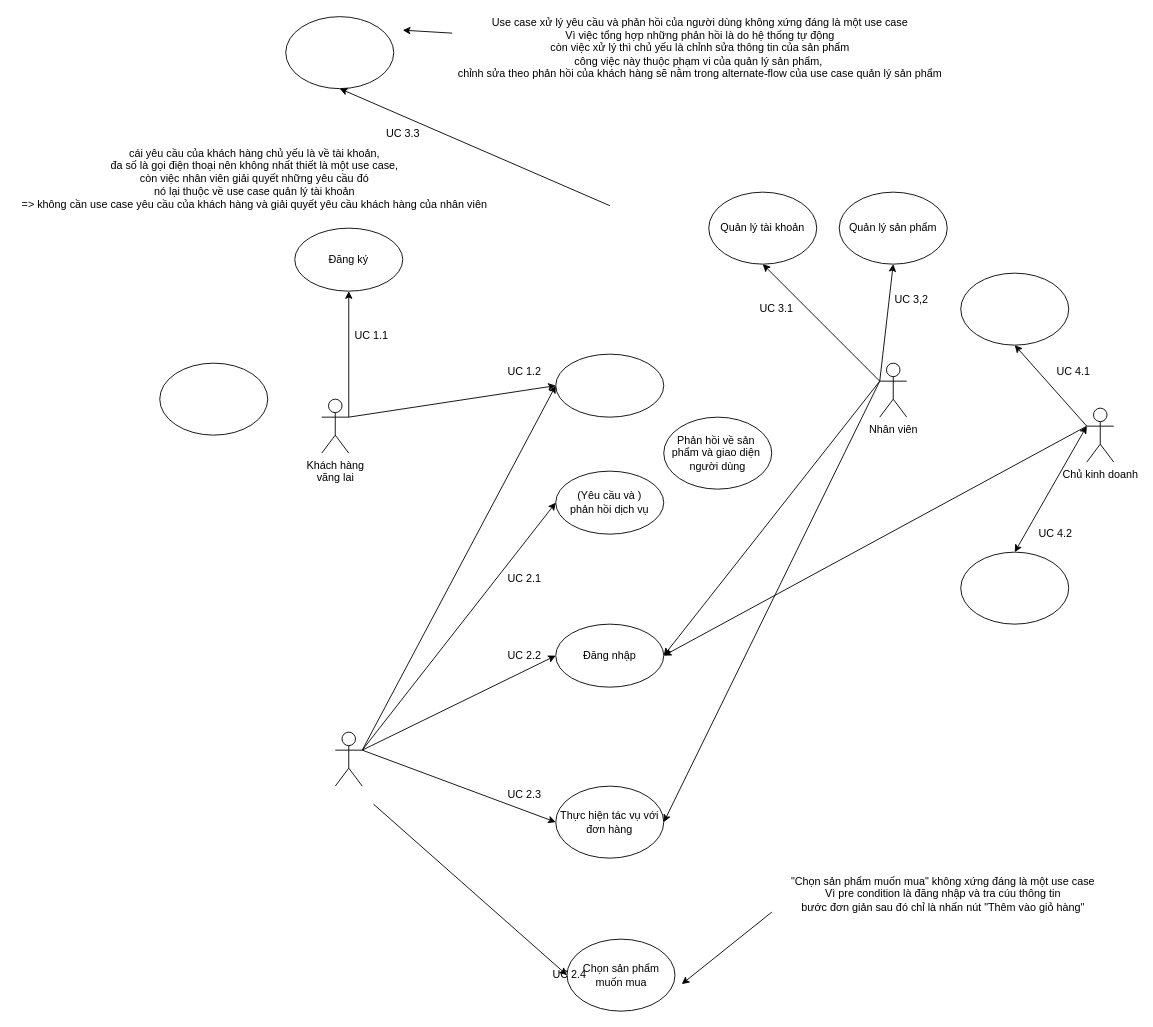
Some shapes in this 1153 by 1027 pixel diagram are drawn without their labels. The shapes that lost their labels are listed below. From the top down, each one's centre as x and y in pixels, then its label:
At [339,52]: "Xử lý (yêu cầu) và phản hồi của người dùng".
At [1014,308]: "Quản lý nhân viên".
At [609,385]: "Tra cứu thông tin".
At [1014,587]: "Quản lý doanh thu".
At [348,758]: "Member".
